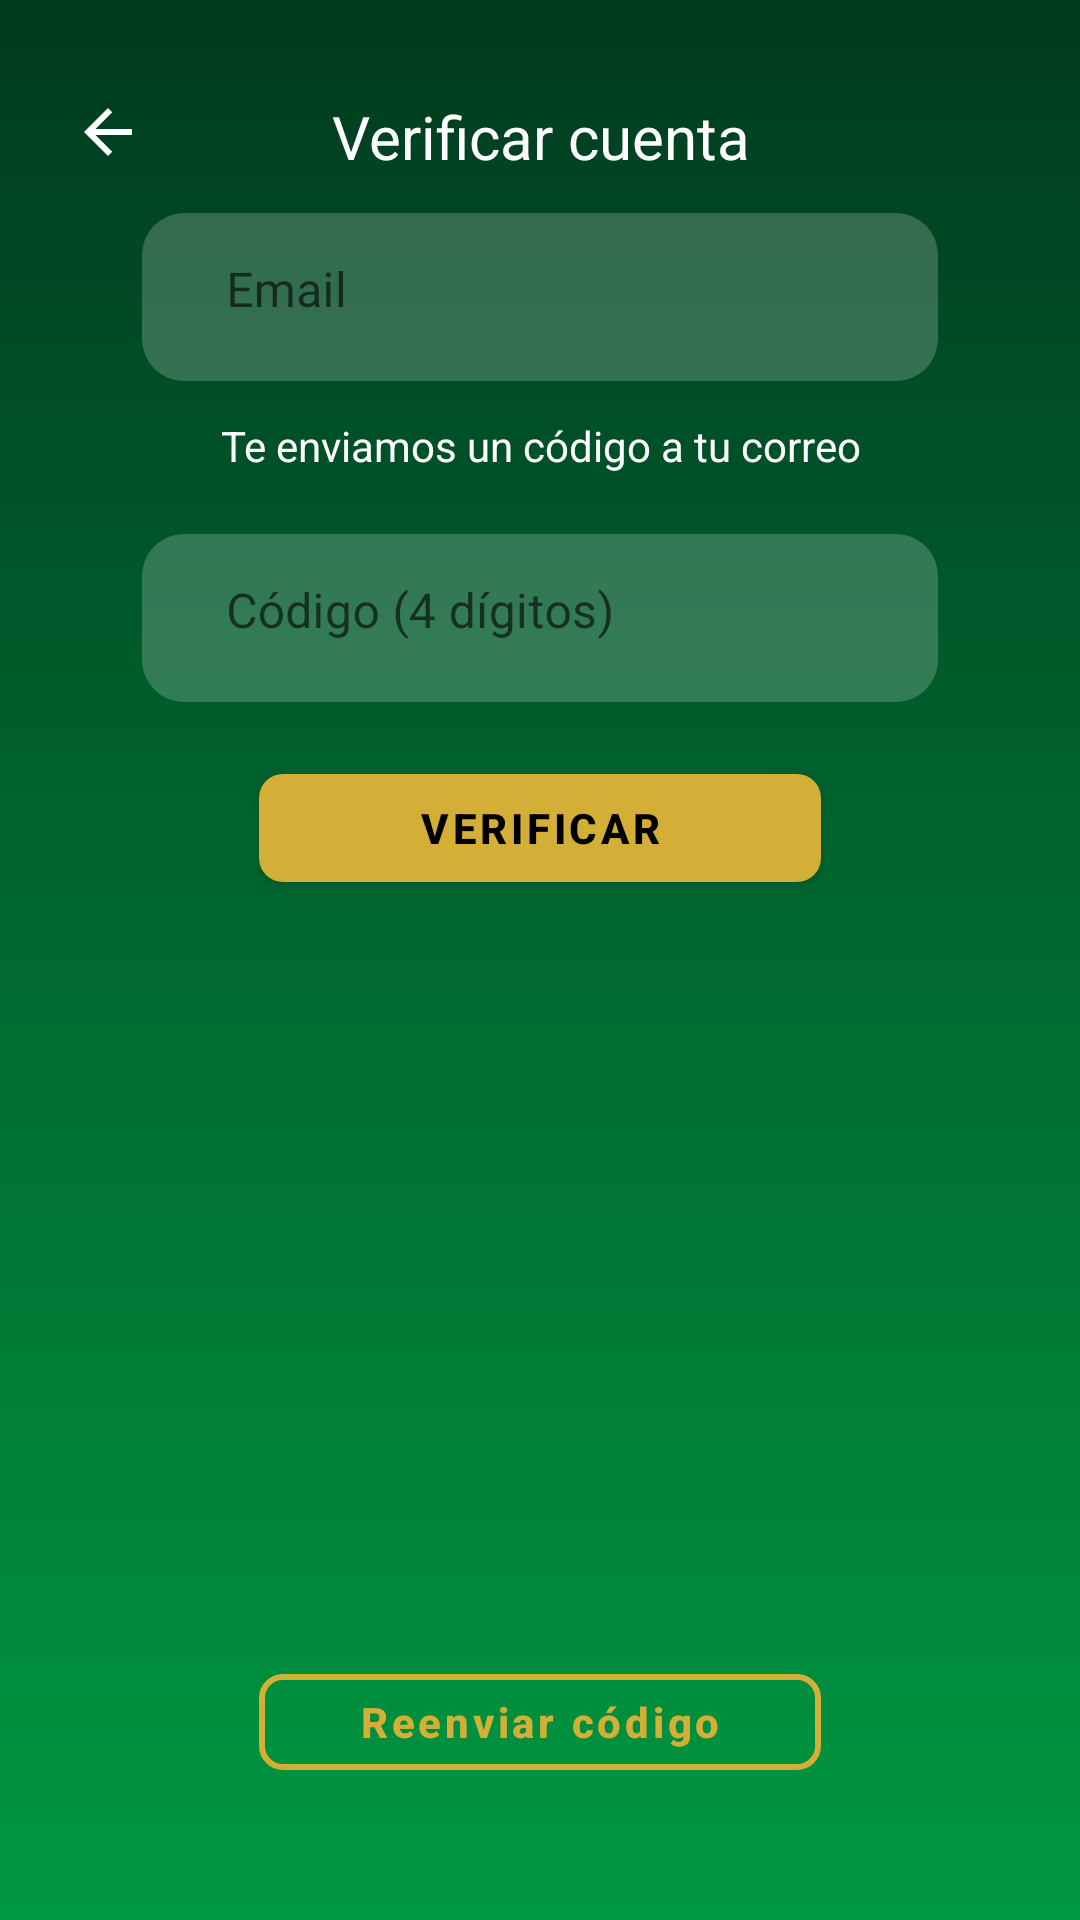

Icons on this 1080px×1920px Android screen, each with its box as (x1, y1, x2, y2):
Volver: (84, 108, 132, 156)
